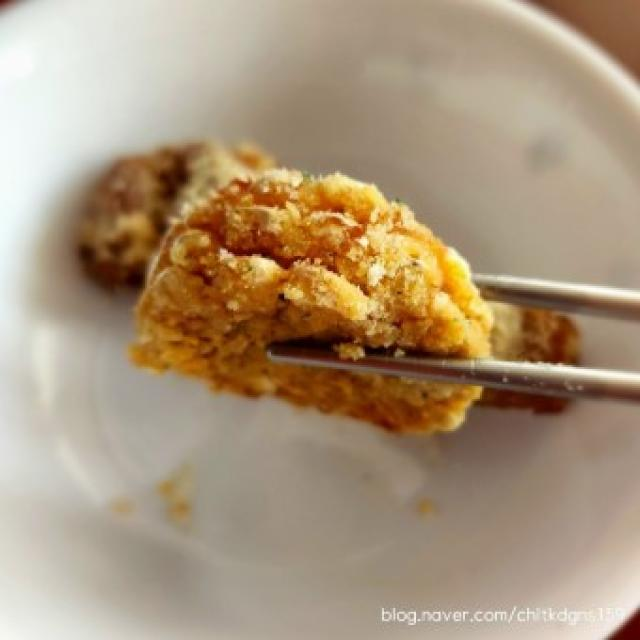Frango: (130, 155, 514, 455)
